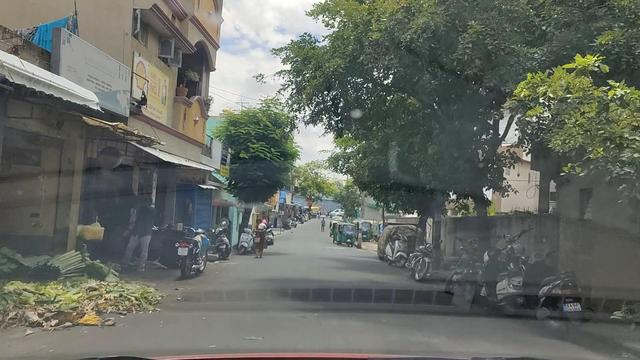LMV: (175, 224, 198, 277), (333, 223, 355, 247)
